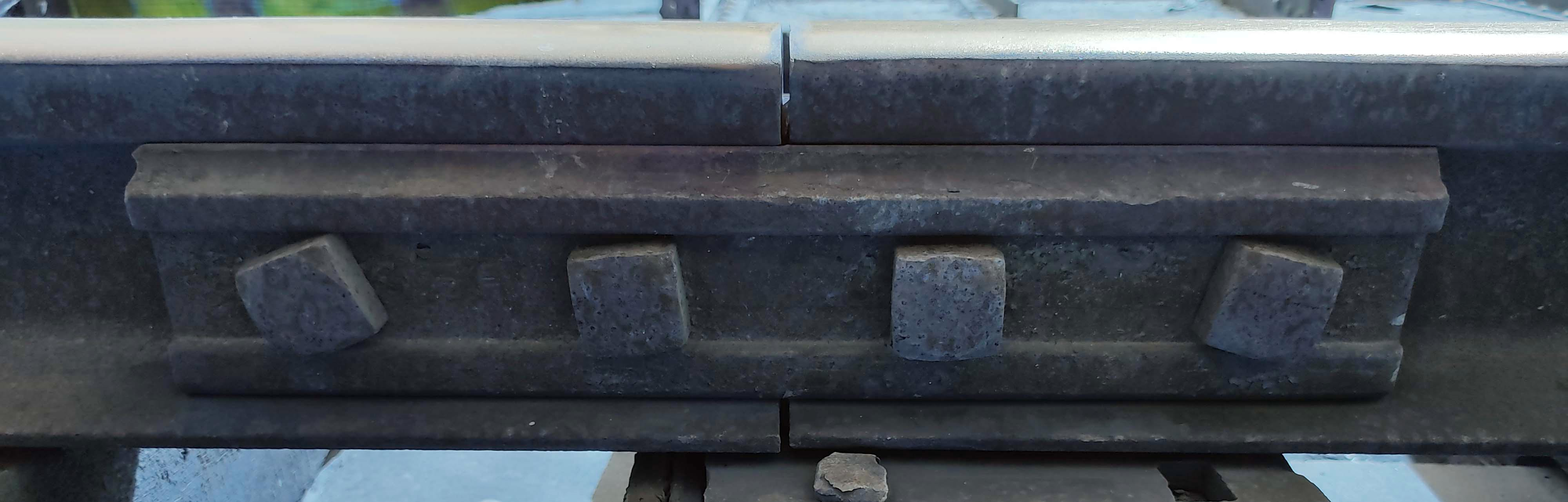duan lie: (755, 11, 821, 165)
